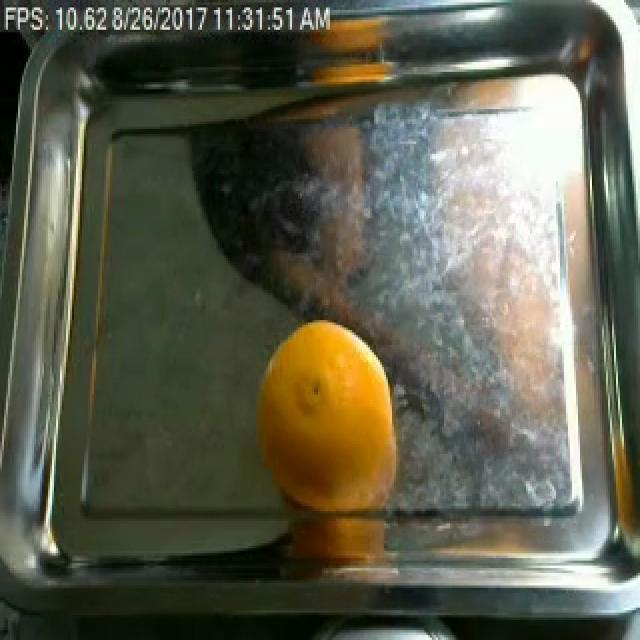Fruit: (178, 99, 382, 323), (246, 310, 404, 526)
